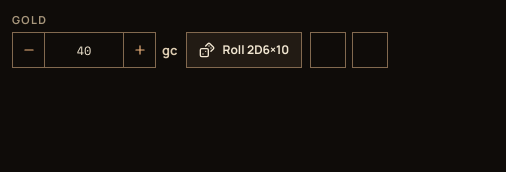
Test: FeePayment › takes the fee's dice typed in, as the roll does, and keeps them beside Roll again
Type "2" into the field named "First D6 rolled" at (328, 50), box left=310, top=32, right=346, bottom=68
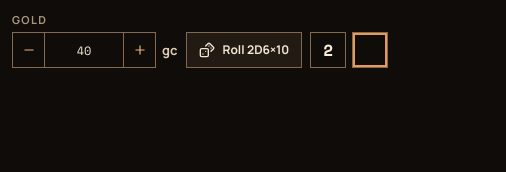
Type keys "5"
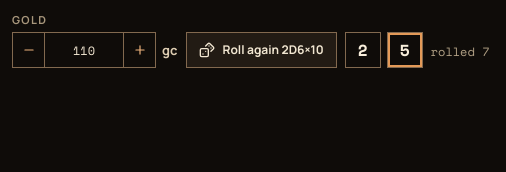
Now the number field named "Gold paid" holds "110", box left=44, top=32, right=124, bottom=68
Now the field named "Second D6 rolled" holds "5", box left=387, top=32, right=423, bottom=68
Click the button "Roll again 2D6×10" at (261, 50), box left=186, top=32, right=337, bottom=68
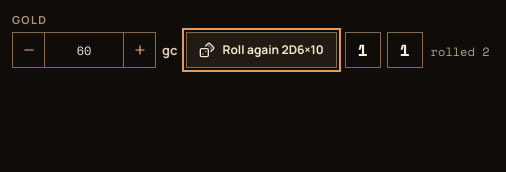
Now the field named "First D6 rolled" holds "1", box left=345, top=32, right=381, bottom=68
